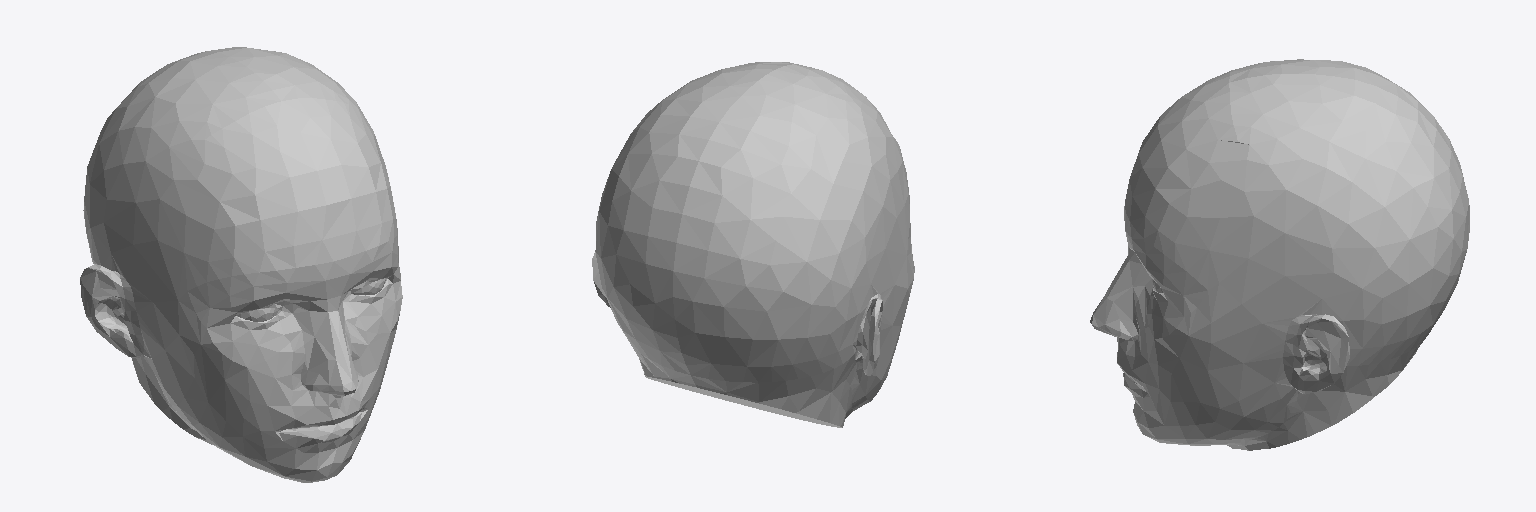
The model's file is head_mesh_female_new.obj.
The picture shows the model from 3 angles: view 1: azimuth 30°, elevation 25°; view 2: azimuth 150°, elevation 25°; view 3: azimuth 270°, elevation 25°; orthographic projection.
Visible parts, largest first — view 1: mmGroup0; view 2: mmGroup0, mmGroup1; view 3: mmGroup0.
Part boxes in pixels (x1,y1,x2,y2): mmGroup0: (80,47,402,482); mmGroup0: (592,62,914,427); mmGroup1: (646,376,841,427); mmGroup0: (1090,59,1469,450).
Size of the model in its own units: 0.1727 by 0.2128 by 0.201.